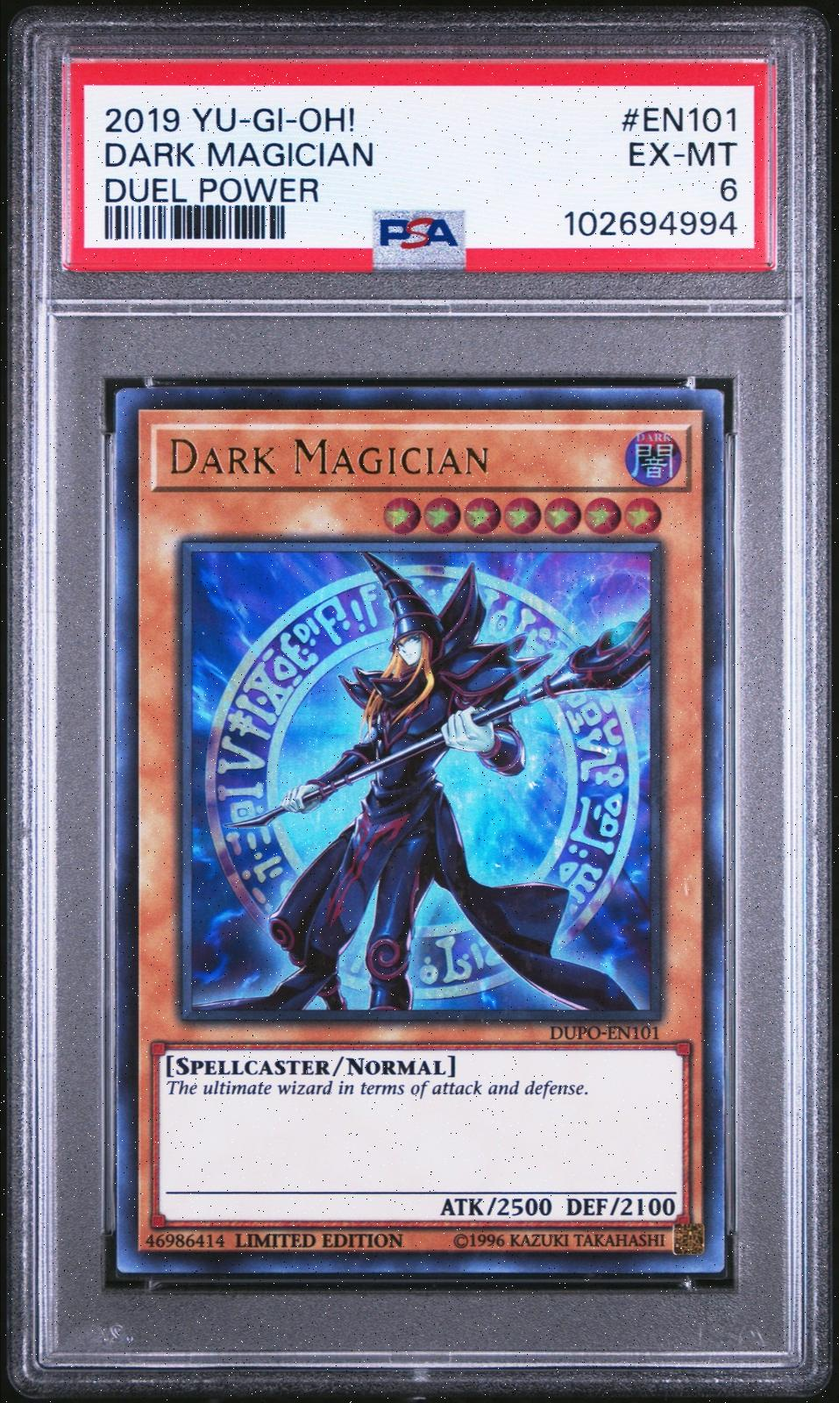card-2UtV: (115, 388, 724, 1273)
